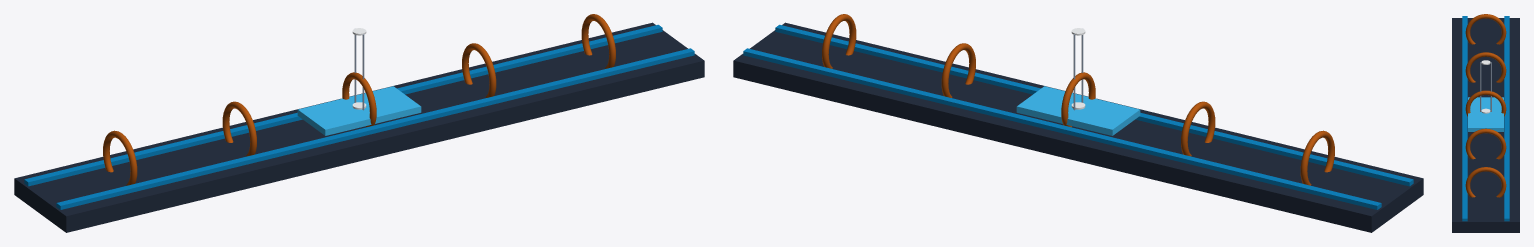
Rendered from maglev_beamline.glb.
3 renders of one model, left to right at view 1: azimuth 30°, elevation 25°; view 2: azimuth 150°, elevation 25°; view 3: azimuth 270°, elevation 25°, orthographic. The views are drawn at different scales.
Parts seen in each view (by area): view 1: Special_Relativity_Maglev_Beamline, Relativistic_Carrier_Sled_S_Prime; view 2: Special_Relativity_Maglev_Beamline, Relativistic_Carrier_Sled_S_Prime; view 3: Special_Relativity_Maglev_Beamline, Relativistic_Carrier_Sled_S_Prime.
Part boxes in pixels (<box>): Special_Relativity_Maglev_Beamline: <box>14,14,704,232</box>; Relativistic_Carrier_Sled_S_Prime: <box>297,34,421,135</box>; Special_Relativity_Maglev_Beamline: <box>733,14,1423,232</box>; Relativistic_Carrier_Sled_S_Prime: <box>1016,34,1140,135</box>; Special_Relativity_Maglev_Beamline: <box>1452,14,1519,232</box>; Relativistic_Carrier_Sled_S_Prime: <box>1468,62,1503,131</box>.
Bounding box in the file's own units: 3.2 × 0.504 × 0.45.
